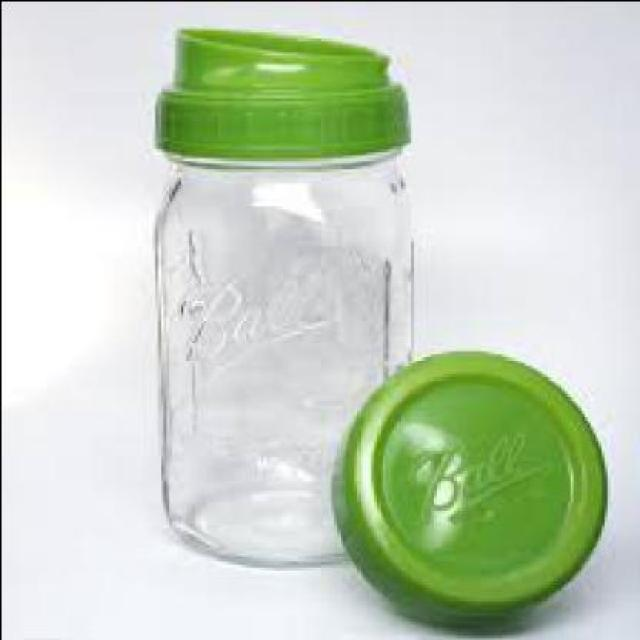GLASS: (154, 148, 415, 560)
PLASTIC: (329, 344, 603, 628), (153, 26, 407, 152)
